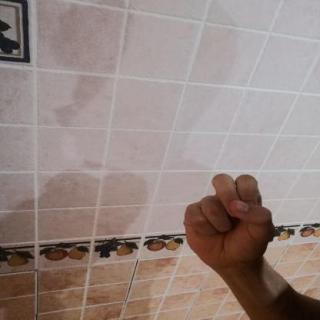QAAF: (167, 167, 286, 275)
